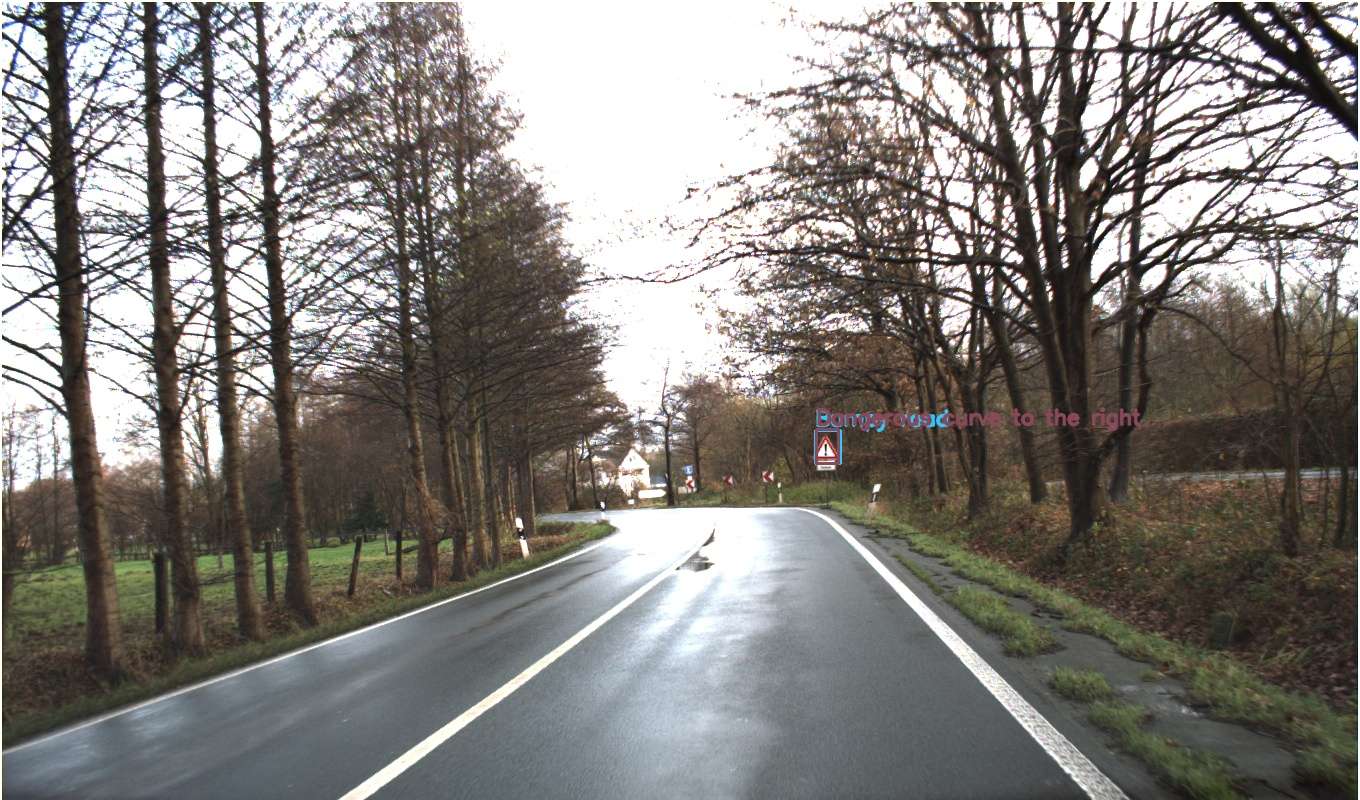Right-of-way at the next intersection: (346, 490, 381, 522), (745, 469, 777, 501)
